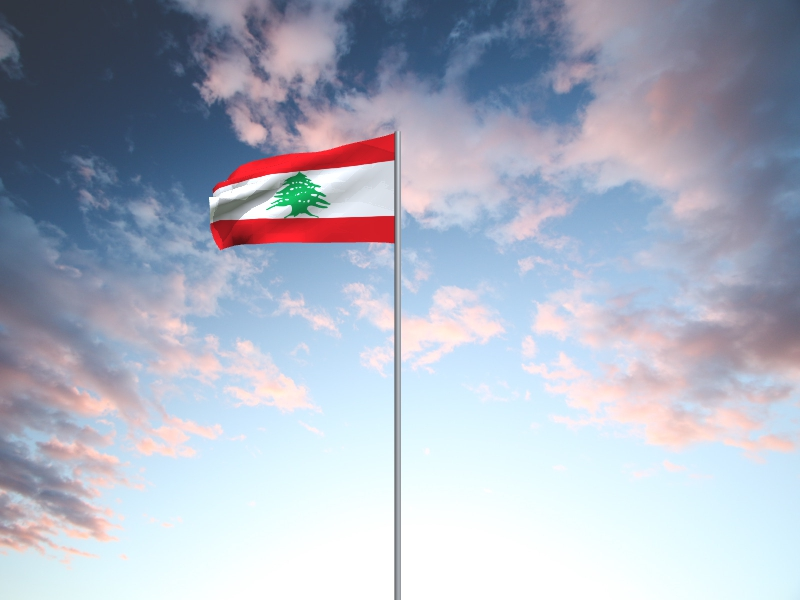lb: (209, 134, 394, 252)
